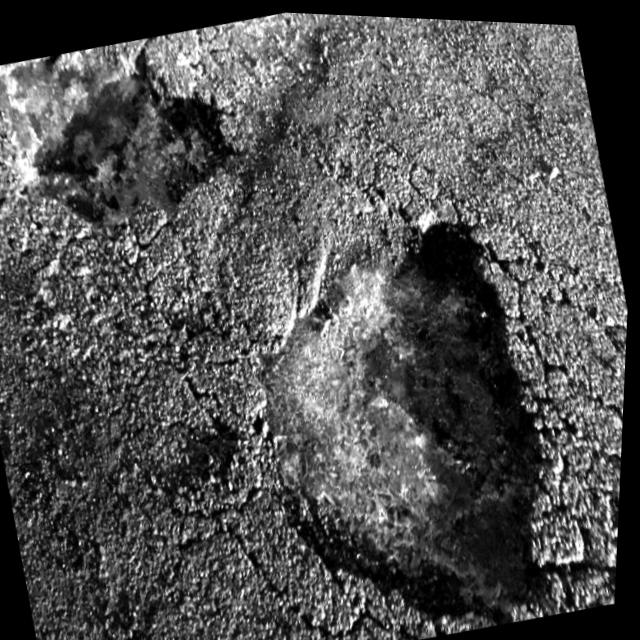pathole: (193, 98, 623, 640), (0, 10, 339, 254)
